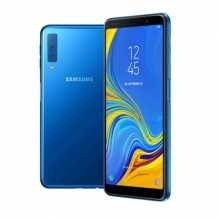samsung: (101, 12, 173, 205), (34, 20, 101, 190)
